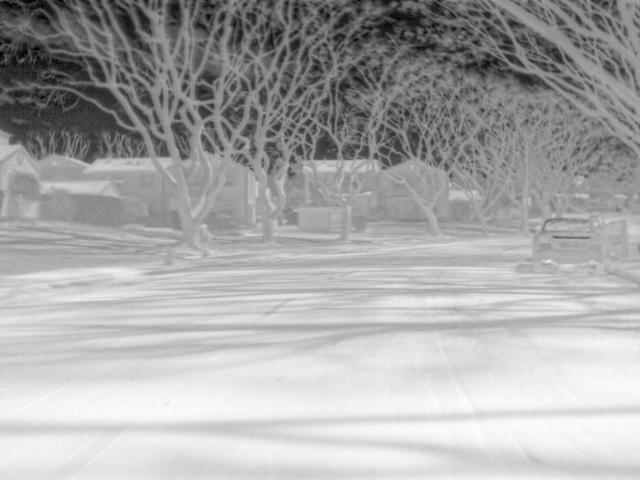car: (531, 216, 609, 278)
person: (196, 224, 211, 257)
